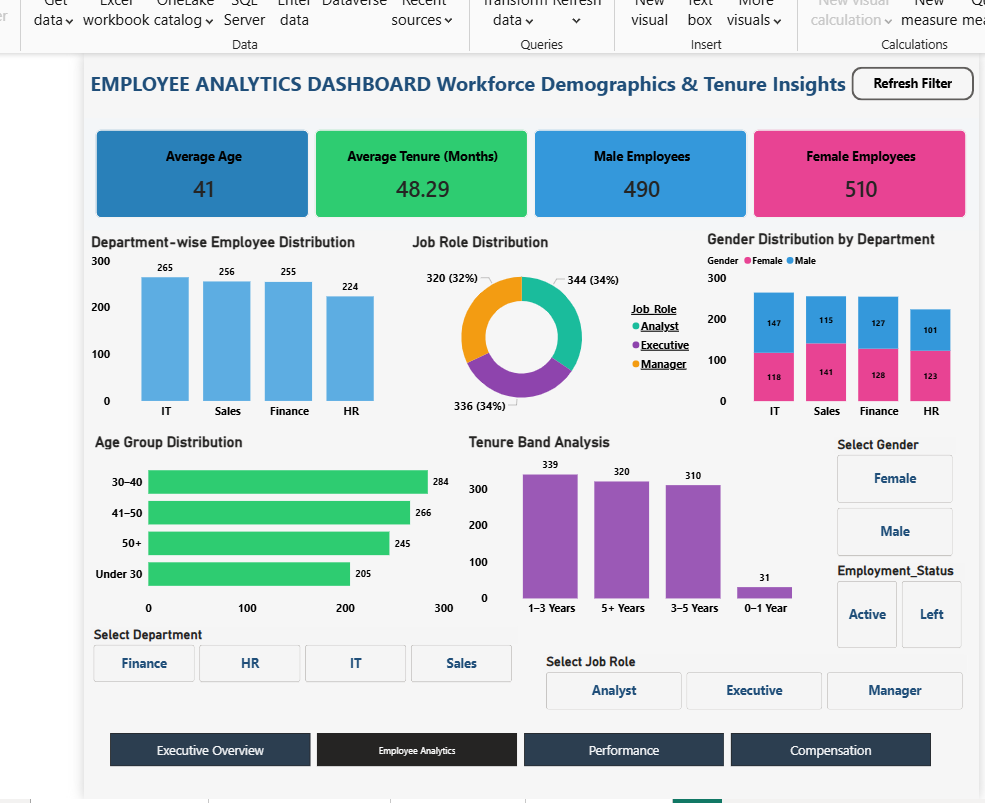

This screenshot's page, from the dashboard's own definition file:
{"tool":"powerbi","page":{"name":"Employee Analytics","canvas":[1320,1100],"ordinal":1},"visuals":[{"type":"shape","box":[9.2,0,1310.5,86.6],"z":0},{"type":"advancedSlicerVisual","fields":{"Values":["HR_Employees.Department"]},"box":[9.2,846,628.5,86.6],"z":1000},{"type":"cardVisual","fields":{"Data":["HR_Employees.Average Age","HR_Employees.Average Tenure (Months)","HR_Employees.Male Employees","HR_Employees.Female Employees"]},"box":[0,95.8,1319.7,165.9],"z":2000},{"type":"donutChart","title":"Job Role Distribution","fields":{"Y":["CountNonNull(HR_Employees.Employee_ID)"],"Category":["HR_Employees.Job_Role"]},"box":[479.2,265.4,427.6,283.8],"z":3000},{"type":"clusteredColumnChart","title":"Department-wise Employee Distribution","fields":{"Category":["HR_Employees.Department"],"Y":["CountNonNull(HR_Employees.Employee_ID)"]},"box":[5.5,265.4,466.3,283.8],"z":4000},{"type":"barChart","title":"Age Group Distribution","fields":{"Category":["HR_Employees.Age Group"],"Y":["CountNonNull(HR_Employees.Employee_ID)"]},"box":[11.1,560.3,545.6,280.2],"z":5000},{"type":"clusteredColumnChart","title":"Tenure Band Analysis","fields":{"Category":["HR_Employees.Tenure Band"],"Y":["CountNonNull(HR_Employees.Employee_ID)"]},"box":[562.2,560.3,532.7,280.2],"z":6000},{"type":"actionButton","box":[1131.7,20.3,180.6,49.8],"z":7000},{"type":"pageNavigator","box":[38.7,1002.7,1211,49.8],"z":8000},{"type":"advancedSlicerVisual","fields":{"Values":["HR_Employees.Job_Role"]},"box":[676.4,886.6,626.7,86.6],"z":9000},{"type":"advancedSlicerVisual","fields":{"Values":["HR_Employees.Gender"]},"box":[1105.9,565.9,180.6,180.6],"z":10000},{"type":"columnChart","title":"Gender Distribution by Department","fields":{"Category":["HR_Employees.Department"],"Series":["HR_Employees.Gender"],"Y":["CountNonNull(HR_Employees.Employee_ID)"]},"box":[914.2,261.7,401.8,287.5],"z":11000},{"type":"advancedSlicerVisual","fields":{"Values":["HR_Employees.Employment_Status"]},"box":[1105.9,752,193.5,130.9],"z":12000}]}

Visuals, with their boxes on the page's 1320x1100 design canvas (x1, y1, x2, y2). These are canvas units, not pixel positions in the 985x803 screenshot, which may show the page scaled, cropped or inside an application window:
shape: 9/0/1320/87
advancedSlicerVisual - HR_Employees.Department: 9/846/638/933
cardVisual - HR_Employees.Average Age x HR_Employees.Average Tenure (Months): 0/96/1320/262
"Job Role Distribution" donutChart: 479/265/907/549
"Department-wise Employee Distribution" clusteredColumnChart: 6/265/472/549
"Age Group Distribution" barChart: 11/560/557/840
"Tenure Band Analysis" clusteredColumnChart: 562/560/1095/840
actionButton: 1132/20/1312/70
pageNavigator: 39/1003/1250/1052
advancedSlicerVisual - HR_Employees.Job_Role: 676/887/1303/973
advancedSlicerVisual - HR_Employees.Gender: 1106/566/1286/746
"Gender Distribution by Department" columnChart: 914/262/1316/549
advancedSlicerVisual - HR_Employees.Employment_Status: 1106/752/1299/883
